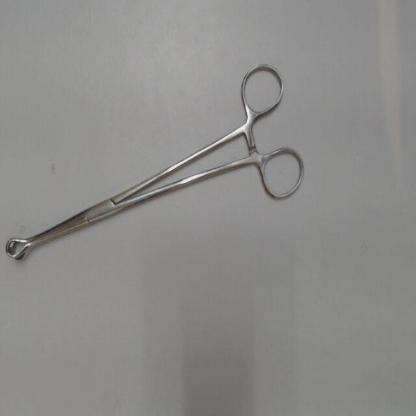8 Babcock Tissue Forceps: (2, 55, 313, 268)
